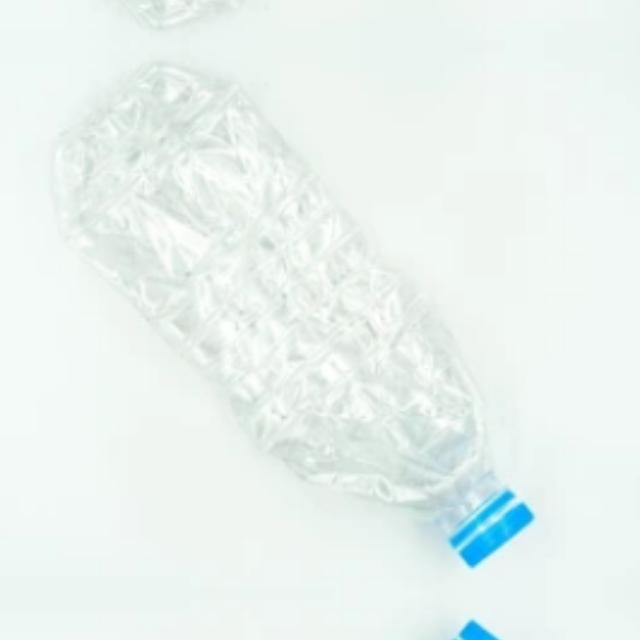Plastic: (36, 70, 558, 568), (36, 618, 558, 640), (36, 0, 558, 20)
